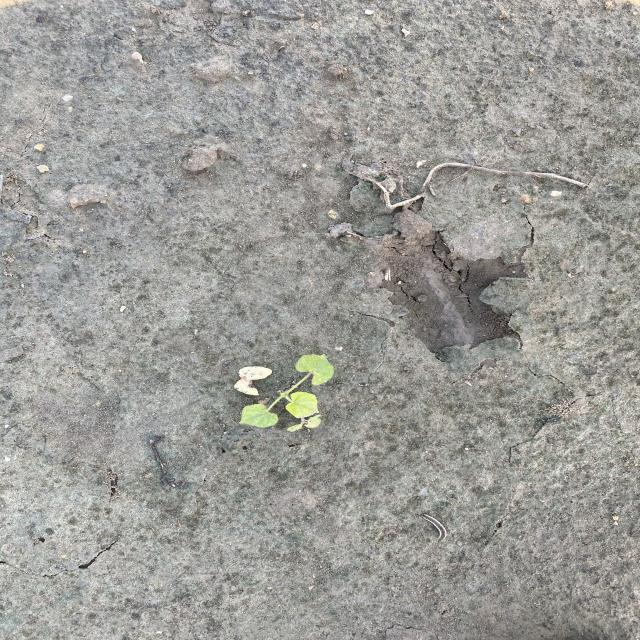MorningGlory: (237, 353, 337, 434)
